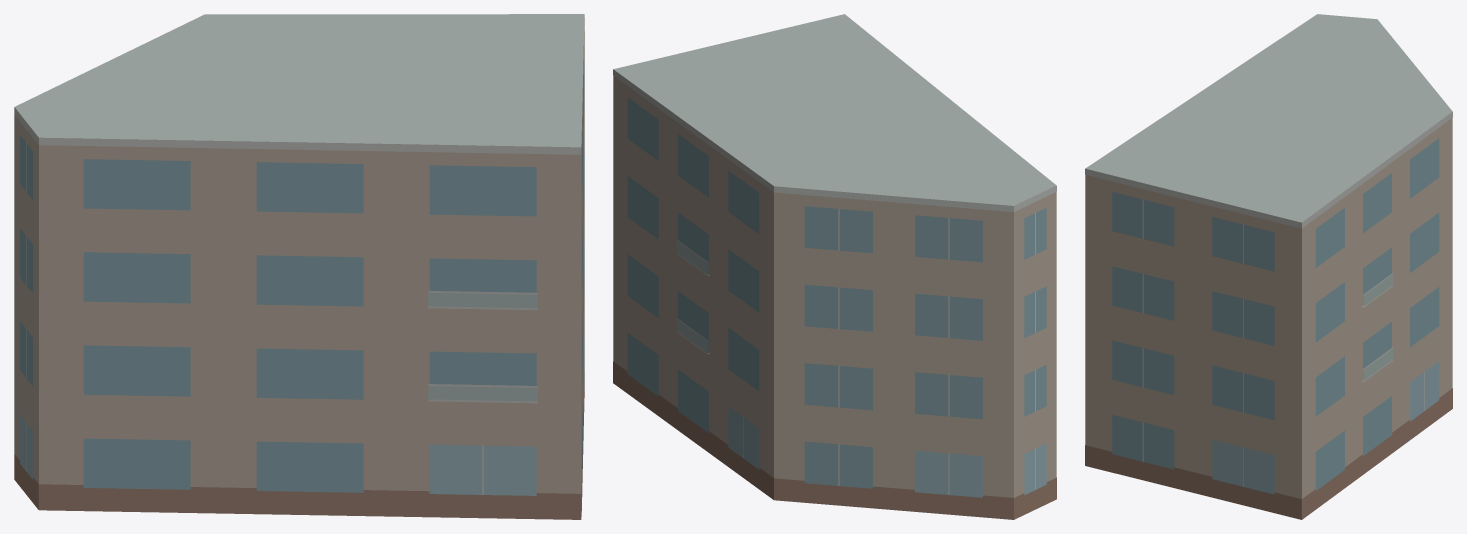
File: survey-upis-32650198.glb
3 views of the same model, side by side, from view 1: azimuth 30°, elevation 25°; view 2: azimuth 150°, elevation 25°; view 3: azimuth 270°, elevation 25° (orthographic). The views are drawn at different scales.
Parts seen in each view (by area): view 1: survey-upis-32650198.tmp; view 2: survey-upis-32650198.tmp; view 3: survey-upis-32650198.tmp.
Boxes of the visible parts, left/top/right/bottom form: survey-upis-32650198.tmp: left=14, top=14, right=584, bottom=519; survey-upis-32650198.tmp: left=613, top=14, right=1056, bottom=519; survey-upis-32650198.tmp: left=1085, top=14, right=1452, bottom=519.
Size of the model in its own units: 18.38 by 12.2 by 13.69.
